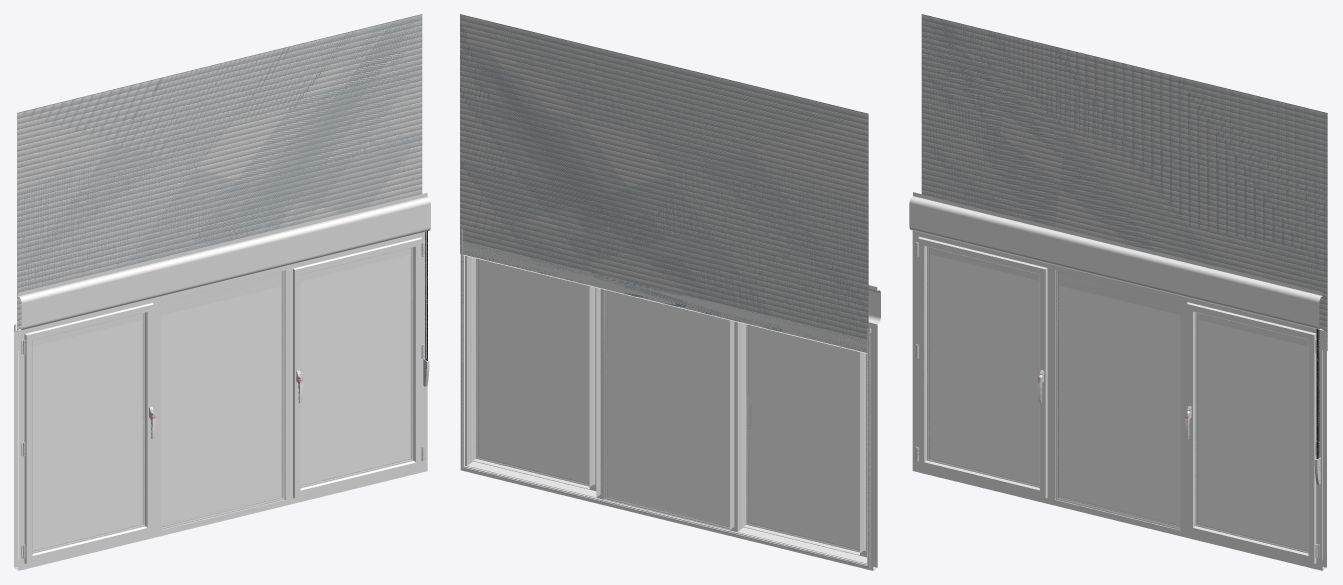
The model's file is Window2_os_220x143x[3 casement_blinds].dae.
3 renders of one model, left to right at view 1: azimuth 30°, elevation 25°; view 2: azimuth 150°, elevation 25°; view 3: azimuth 330°, elevation 25°, orthographic.
Visible parts, largest first — view 1: group_19, group_2 (×3), group_9 (×4), group_17 (×2), group_22, group_16 (×2), group_21; view 2: group_19 (×2), group_2 (×8), group_9 (×6), group_17 (×2), group_21 (×2), group_16 (×4); view 3: group_19, group_2 (×4), group_9 (×4), group_17 (×2), group_22, group_16 (×2), group_21.
Boxes of the visible parts, left/top/right/bottom form: group_19: left=17, top=14, right=422, bottom=336; group_2 (×3): left=18, top=231, right=427, bottom=570; group_9 (×4): left=293, top=237, right=421, bottom=498; group_17 (×2): left=32, top=313, right=145, bottom=553; group_22: left=18, top=192, right=430, bottom=330; group_16 (×2): left=24, top=302, right=153, bottom=563; group_21: left=14, top=330, right=18, bottom=567; group_19 (×2): left=459, top=14, right=868, bottom=353; group_2 (×8): left=465, top=256, right=877, bottom=567; group_9 (×6): left=467, top=256, right=596, bottom=492; group_17 (×2): left=746, top=324, right=859, bottom=552; group_21 (×2): left=460, top=228, right=873, bottom=570; group_16 (×4): left=738, top=322, right=866, bottom=559; group_19: left=921, top=14, right=1327, bottom=337; group_2 (×4): left=912, top=230, right=1322, bottom=570; group_9 (×4): left=1187, top=302, right=1316, bottom=563; group_17 (×2): left=927, top=247, right=1039, bottom=487; group_22: left=909, top=192, right=1322, bottom=329; group_16 (×2): left=918, top=236, right=1047, bottom=497; group_21: left=1322, top=330, right=1326, bottom=567.
Bounding box in the file's own units: 86.63 × 4.17 × 91.71.
Materials: 12 (1 with a texture image).
